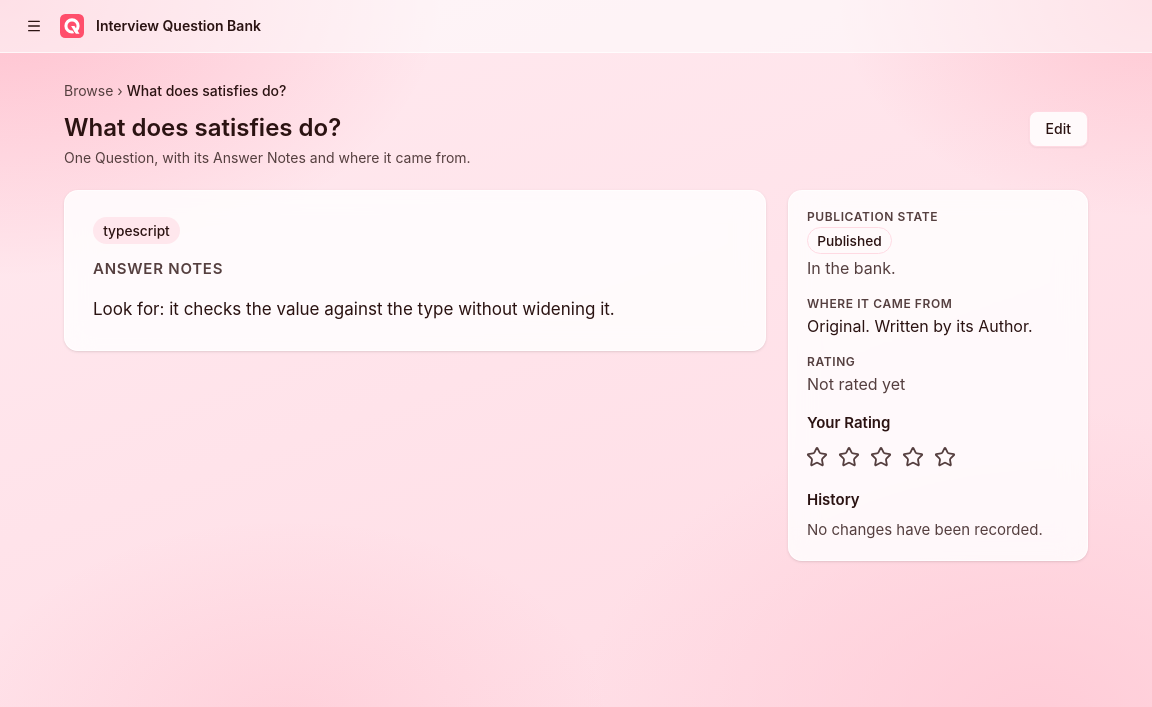
it: an edit the API judged a Near-Duplicate › shows each Near-Duplicate in a dialog
The image size is (1152, 707).
Click the link "Edit": (1058, 129) x1=1029 y1=111 x2=1088 y2=147
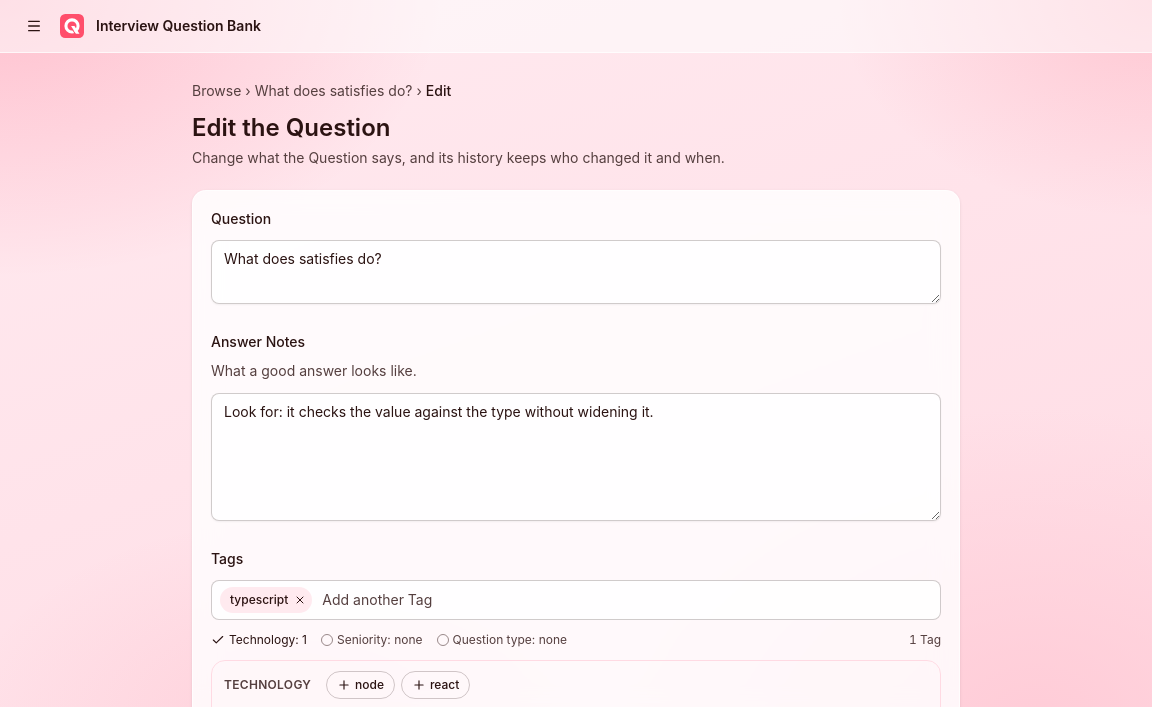
Replace the text in the text box labelled "Question" with "How would you find a slow query?": (576, 272) x1=211 y1=240 x2=941 y2=304
(page scrolled)
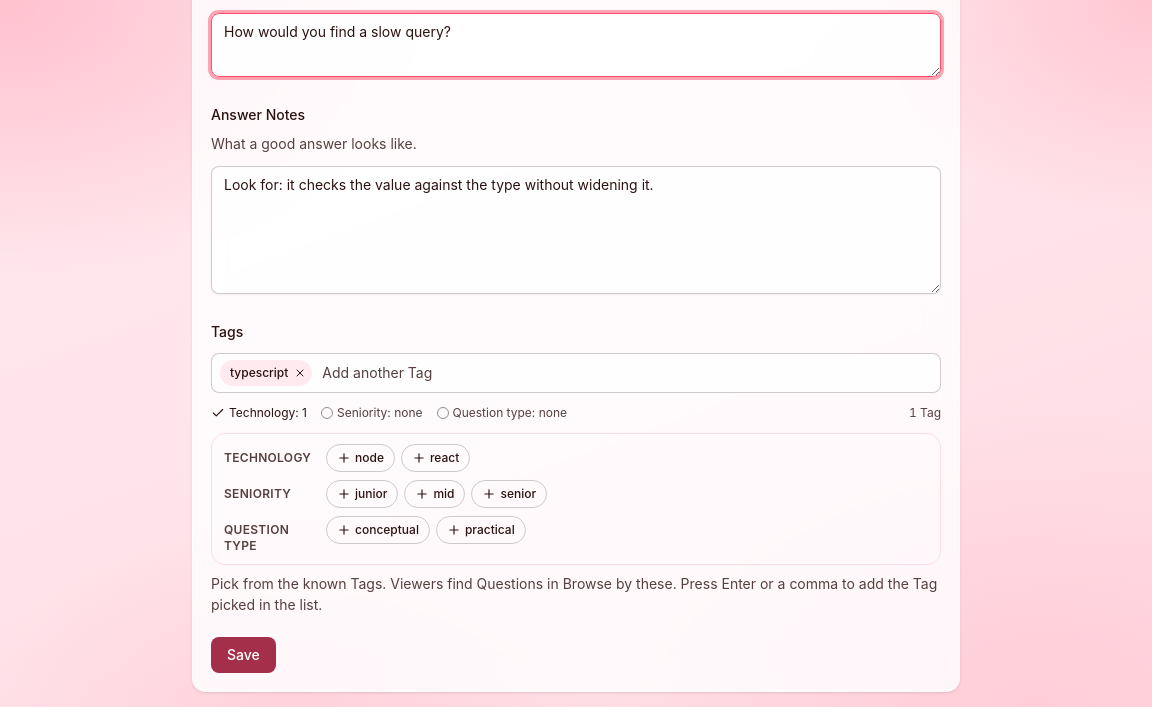
Click the button "Save": (243, 655) x1=211 y1=637 x2=276 y2=673
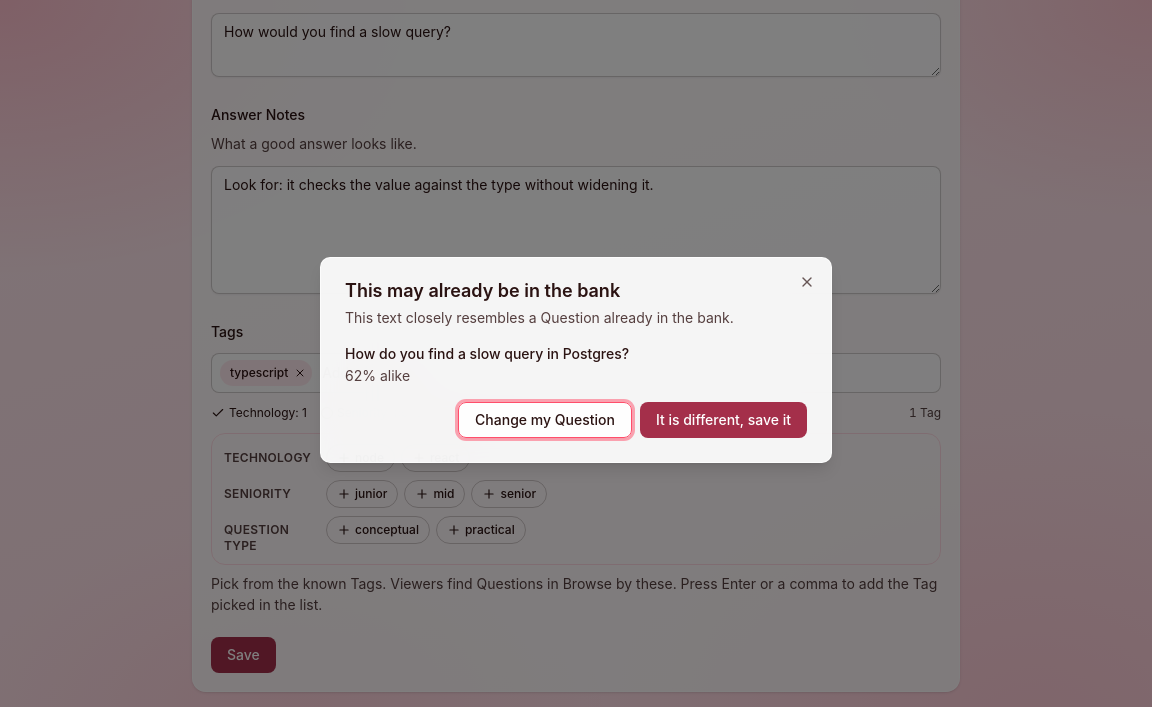
Result: the text "This text closely resembles a Question already in the bank." is shown at x1=345 y1=309 x2=734 y2=326
Result: the link "How do you find a slow query in Postgres?" is shown at x1=345 y1=345 x2=629 y2=362
